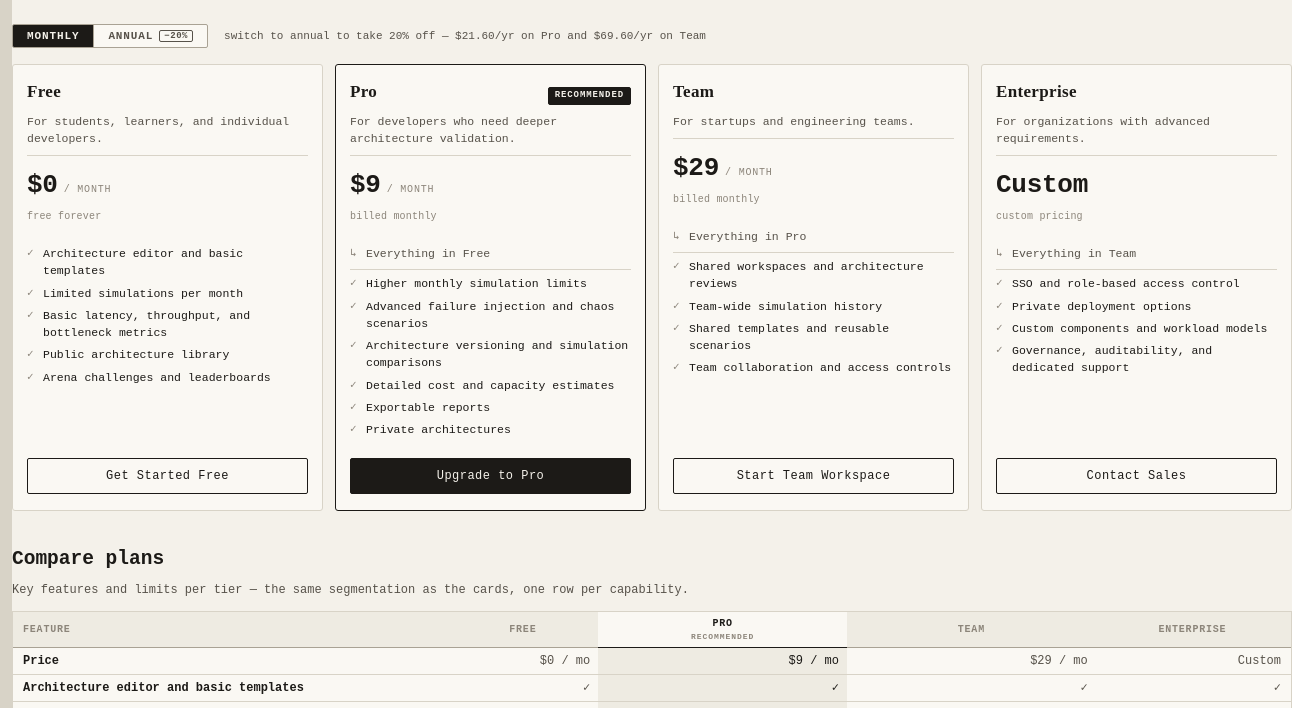
Test: PricingPlans › switches to annual pricing with the 20% discount and the savings
Click the button "annual −20%" at x=150, y=36, box top-left (93, 25), bottom-right (207, 47)
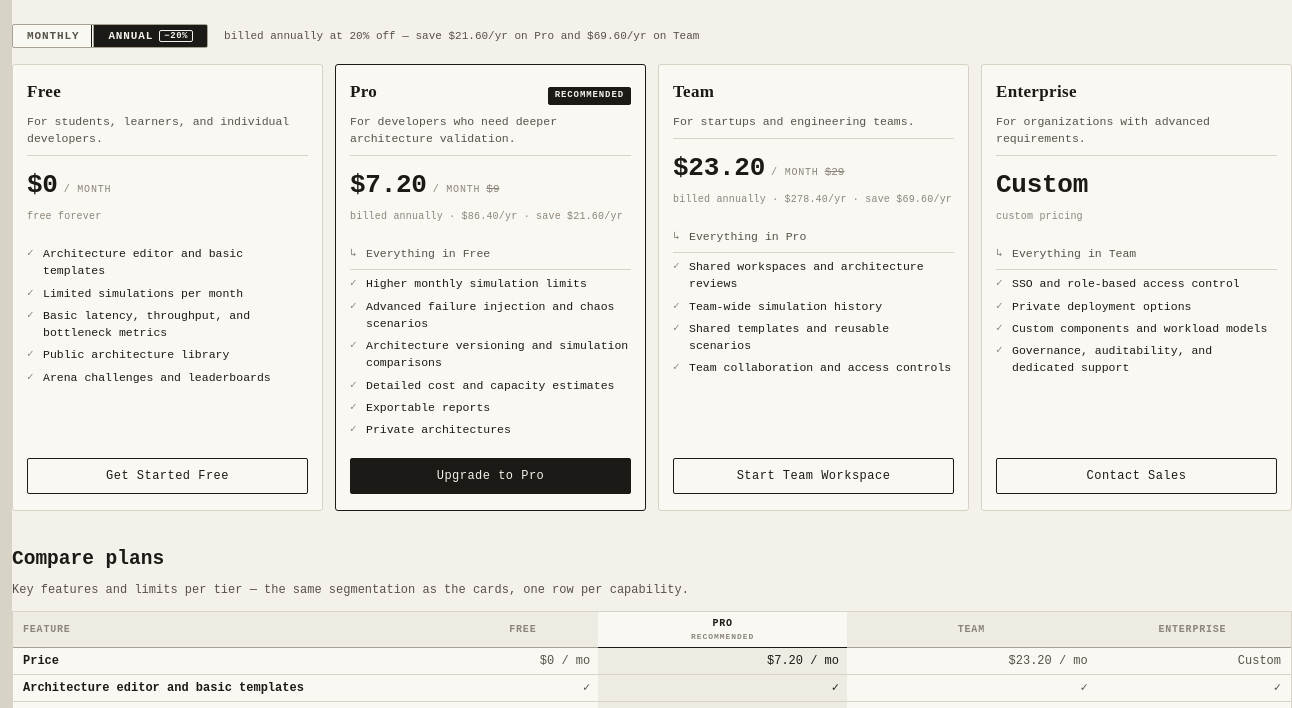
Check: the text "$7.20" is shown, box top-left (350, 166), bottom-right (427, 205)
Check: the element "Pro" shows "save $21.60/yr", box top-left (350, 211), bottom-right (623, 222)
Check: the text "$23.20" is shown, box top-left (673, 149), bottom-right (765, 188)
Note: And back again.
Click the button "monthly" at x=53, y=36, box top-left (13, 25), bottom-right (93, 47)
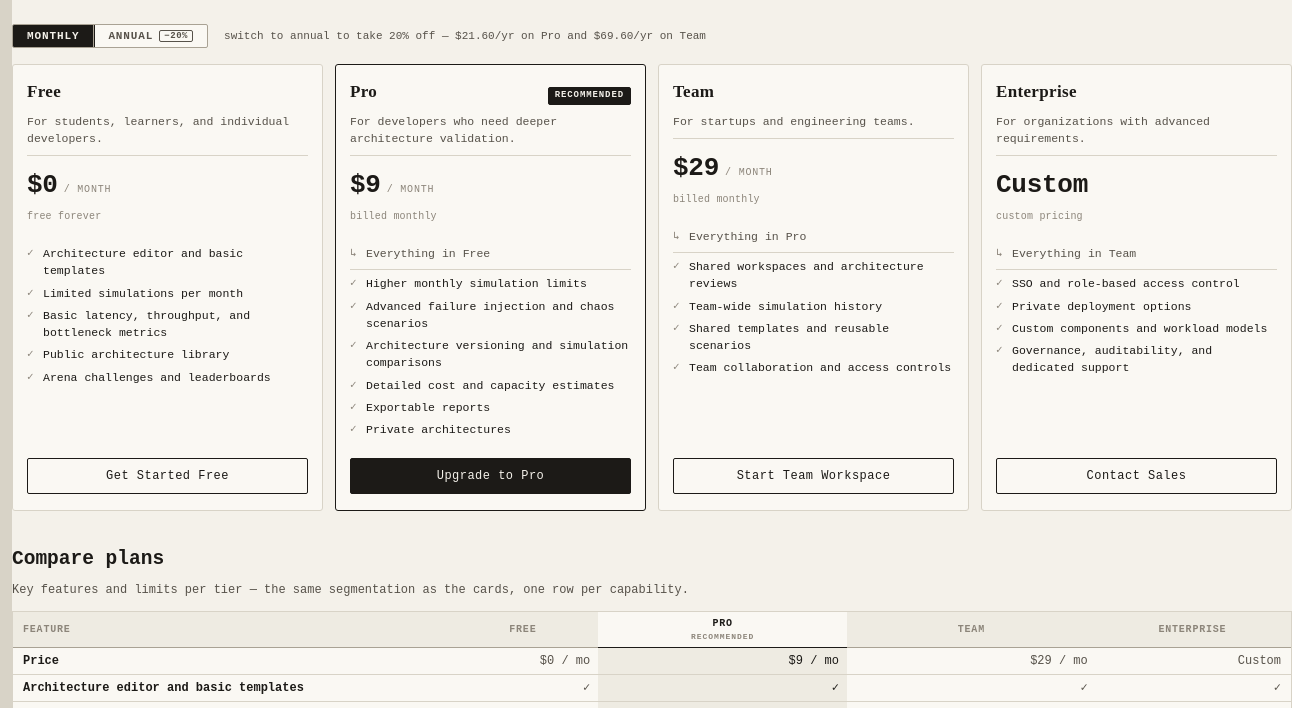
Check: the text "$9" is shown, box top-left (350, 166), bottom-right (381, 205)
Check: the text "$29" is shown, box top-left (673, 149), bottom-right (719, 188)
